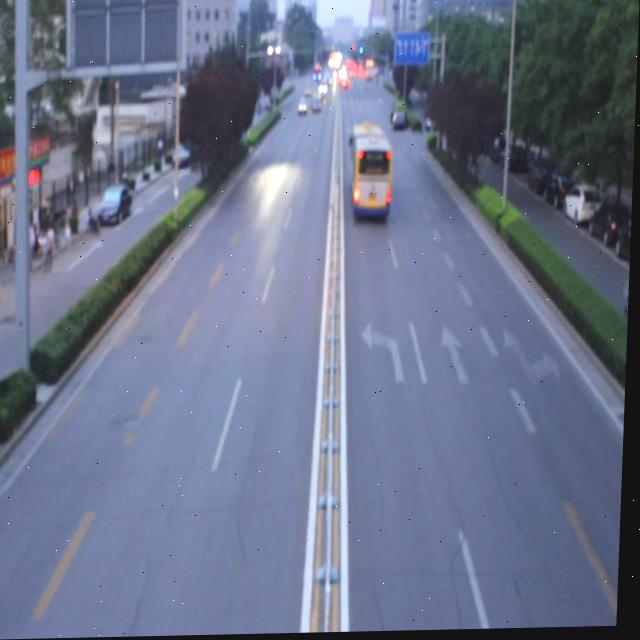van: (348, 125, 394, 215)
